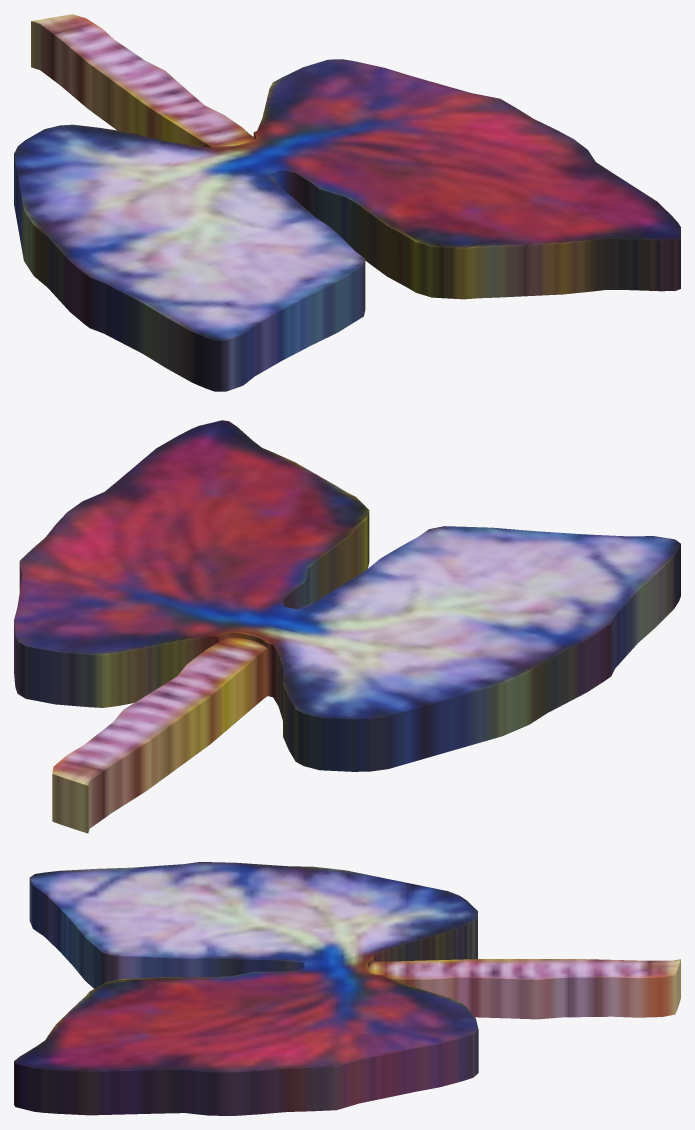
File: mural medicina central 2.dae
3 renders of one model, top to bottom at view 1: azimuth 30°, elevation 25°; view 2: azimuth 150°, elevation 25°; view 3: azimuth 270°, elevation 25°, orthographic. The views are drawn at different scales.
Visible parts, largest first — view 1: SketchUp; view 2: SketchUp; view 3: SketchUp.
Boxes of the visible parts, box(x1,y1,x2,y2) form: SketchUp: box(14, 14, 680, 391); SketchUp: box(14, 420, 680, 833); SketchUp: box(14, 862, 680, 1115).
Bounding box in the file's own units: 14.3 × 19.15 × 1.37.
Materials: 1 (1 with a texture image).
